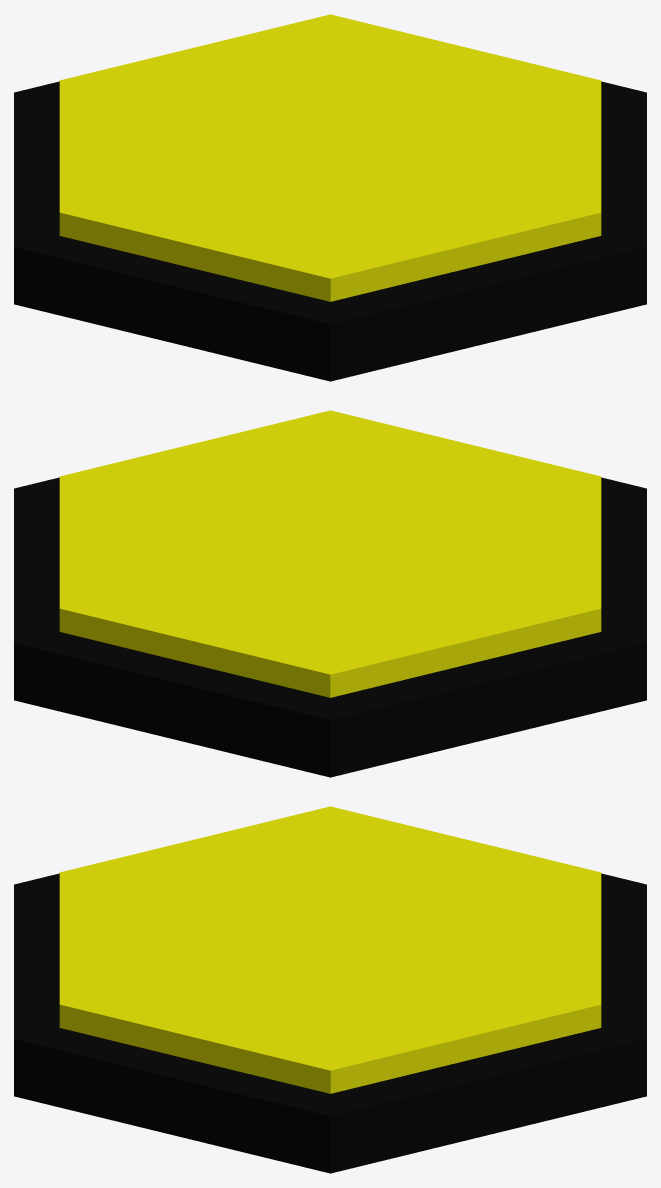
The model's file is Select.fbx.
The picture shows the model from 3 angles, top to bottom: view 1: azimuth 30°, elevation 25°; view 2: azimuth 150°, elevation 25°; view 3: azimuth 270°, elevation 25°; orthographic projection.
Parts seen in each view (by area): view 1: pCylinder2, pCylinder1; view 2: pCylinder2, pCylinder1; view 3: pCylinder2, pCylinder1.
Boxes of the visible parts, x1,y1,x2,y2 form: pCylinder2: [59, 14, 601, 301]; pCylinder1: [14, 81, 646, 381]; pCylinder2: [59, 410, 601, 697]; pCylinder1: [14, 477, 646, 777]; pCylinder2: [59, 806, 601, 1093]; pCylinder1: [14, 873, 646, 1173].
Size of the model in its own units: 2 by 0.2435 by 1.73.
